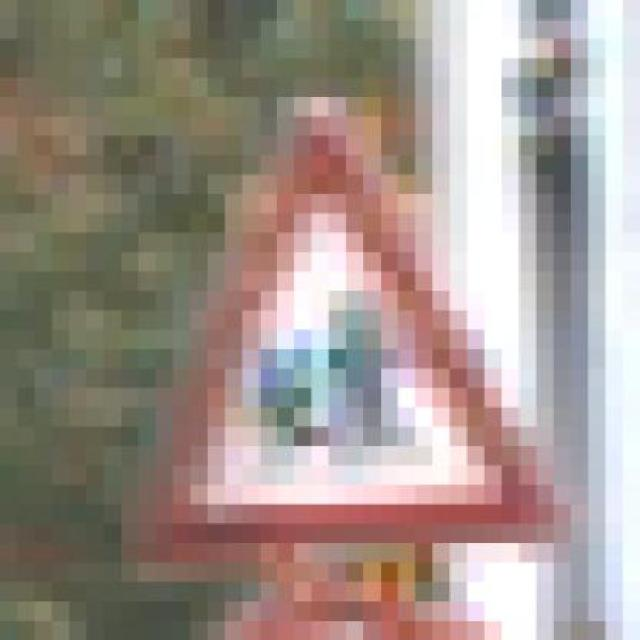Beware of children: (120, 74, 572, 558)
